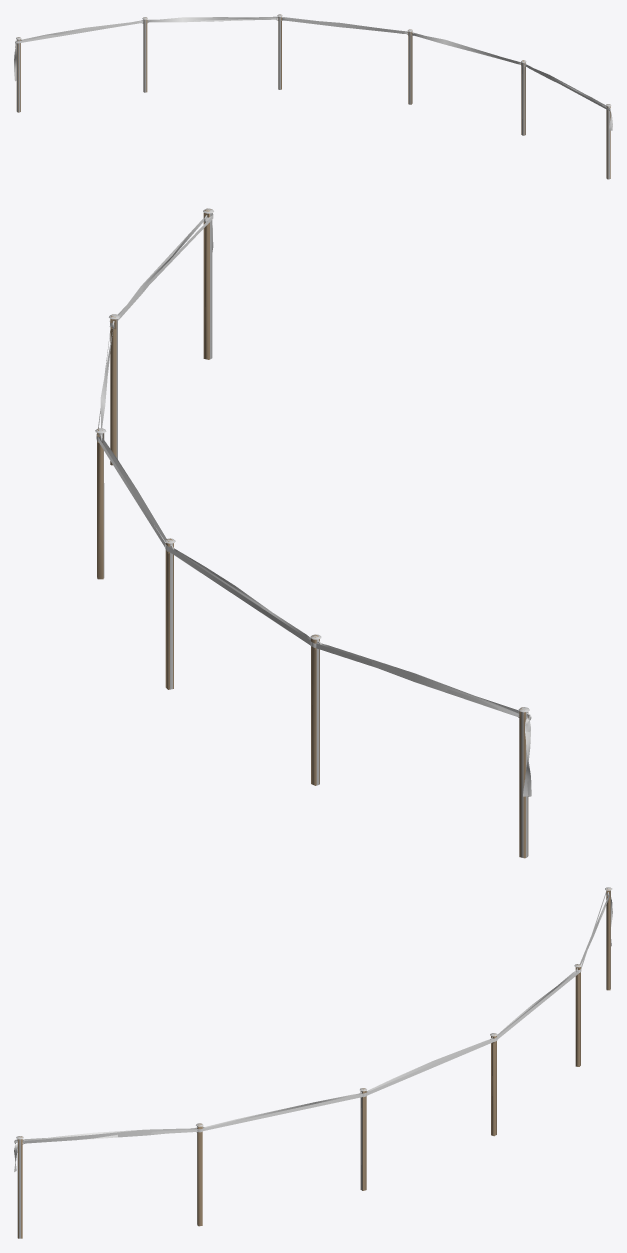
The model's file is ut_race_caution_tape_barricade_b_curve.DAE.
The picture shows the model from 3 angles, top to bottom: view 1: azimuth 30°, elevation 25°; view 2: azimuth 150°, elevation 25°; view 3: azimuth 270°, elevation 25°; orthographic projection. The views are drawn at different scales.
Parts seen in each view (by area): view 1: caution_tape_barricade_b_b_c2000, caution_tape_barricade_b_b_c400, caution_tape_barricade_b_b_c1000, caution_tape_barricade_b_b_c100; view 2: caution_tape_barricade_b_b_c400, caution_tape_barricade_b_b_c2000, caution_tape_barricade_b_b_c1000, caution_tape_barricade_b_b_c100; view 3: caution_tape_barricade_b_b_c400, caution_tape_barricade_b_b_c100, caution_tape_barricade_b_b_c2000.
Part boxes in pixels (left/top/right/bottom): caution_tape_barricade_b_b_c2000: left=15, top=14, right=612, bottom=179; caution_tape_barricade_b_b_c400: left=15, top=14, right=612, bottom=179; caution_tape_barricade_b_b_c1000: left=14, top=14, right=612, bottom=179; caution_tape_barricade_b_b_c100: left=18, top=16, right=607, bottom=109; caution_tape_barricade_b_b_c400: left=96, top=208, right=530, bottom=858; caution_tape_barricade_b_b_c2000: left=98, top=208, right=531, bottom=857; caution_tape_barricade_b_b_c1000: left=95, top=210, right=531, bottom=857; caution_tape_barricade_b_b_c100: left=98, top=215, right=519, bottom=712; caution_tape_barricade_b_b_c400: left=14, top=888, right=612, bottom=1238; caution_tape_barricade_b_b_c100: left=23, top=891, right=606, bottom=1140; caution_tape_barricade_b_b_c2000: left=14, top=887, right=612, bottom=1238.
Size of the model in its own units: 6.48 by 6.48 by 1.2.
